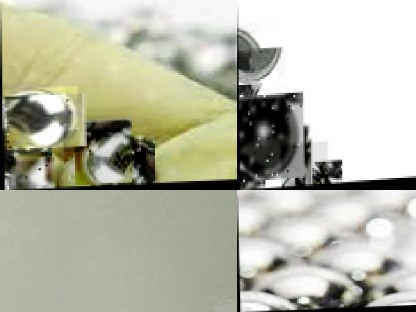ironball: (238, 93, 303, 182), (1, 86, 78, 155), (62, 128, 145, 187), (322, 244, 414, 293), (252, 268, 364, 306), (237, 32, 277, 99), (279, 142, 327, 187), (10, 157, 54, 189), (243, 164, 264, 189), (241, 307, 250, 311)
